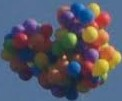Balloon: (81, 26, 98, 45), (66, 61, 81, 77), (79, 9, 94, 24), (62, 32, 77, 47), (34, 52, 48, 67), (13, 33, 27, 47), (97, 12, 110, 27), (95, 59, 108, 73), (85, 48, 99, 61), (60, 11, 73, 23), (40, 25, 51, 38)
